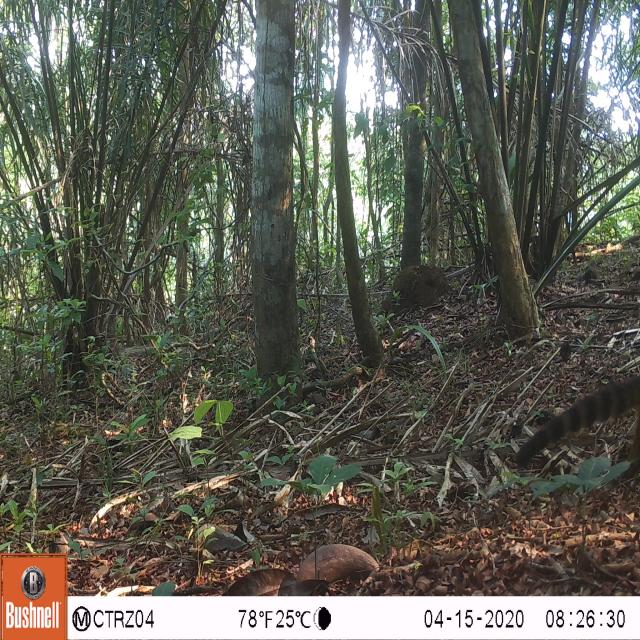South American Coati: (510, 357, 640, 471)
